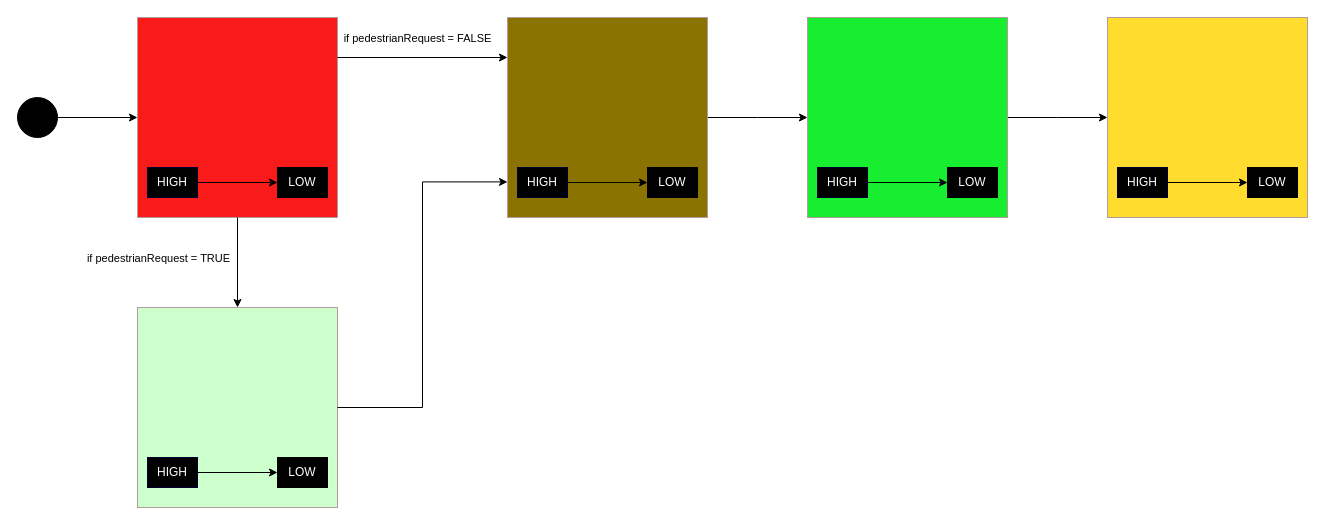
Some shapes in this 1325 by 525 pixel diagram are drawn without their labels. Here are the shapes that lost their labels. From the top down, the box of each, then its label:
(136, 16, 338, 218): Red (after 10 sec)
(506, 16, 708, 218): Red + Yellow (after 5 sec)
(806, 16, 1008, 218): Green (after 10 sec)
(1106, 16, 1308, 218): Yellow (after 5 sec)
(136, 306, 338, 508): Pedestrian Light Green after 10 sec
